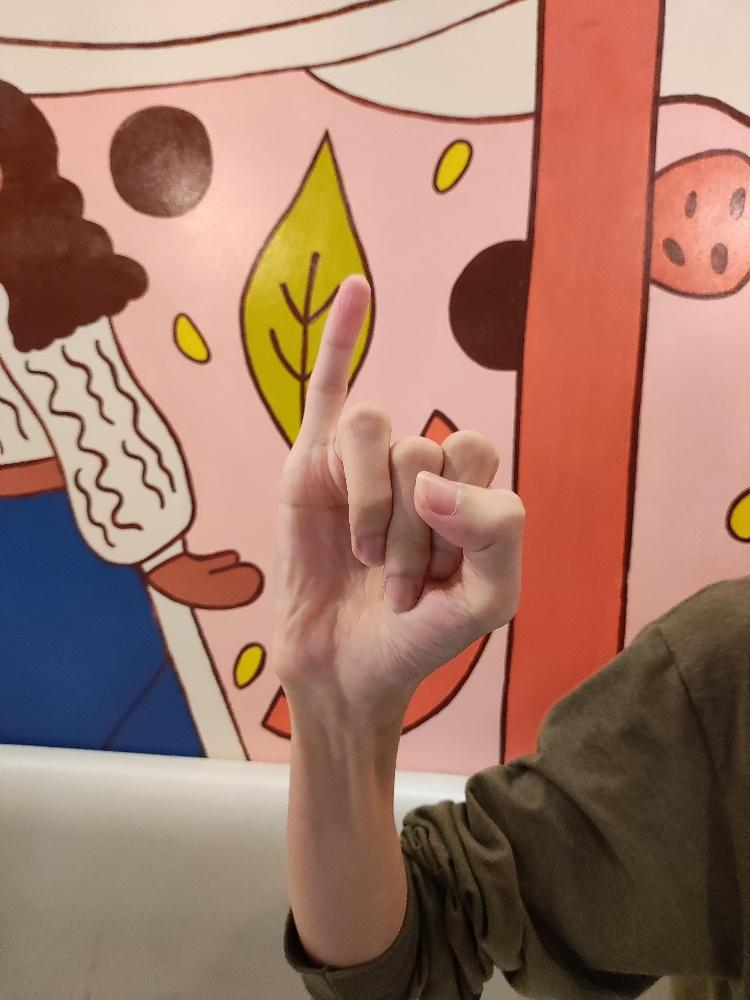i: (267, 267, 527, 702)
